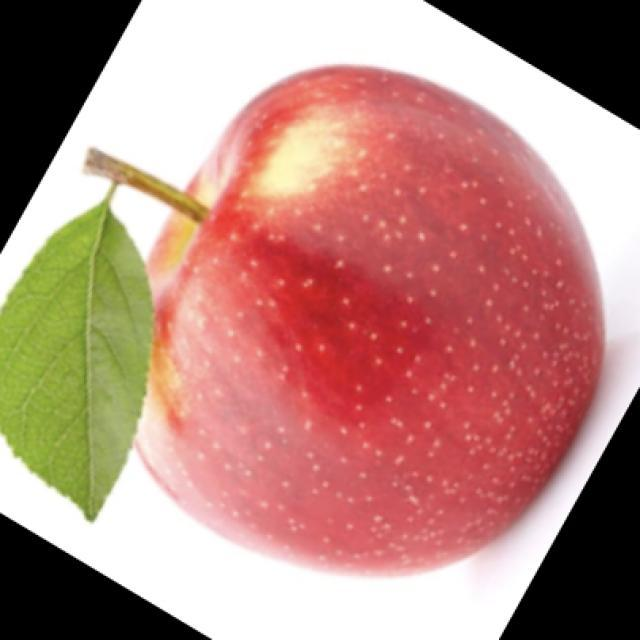Fresh Apple: (119, 57, 606, 586)
